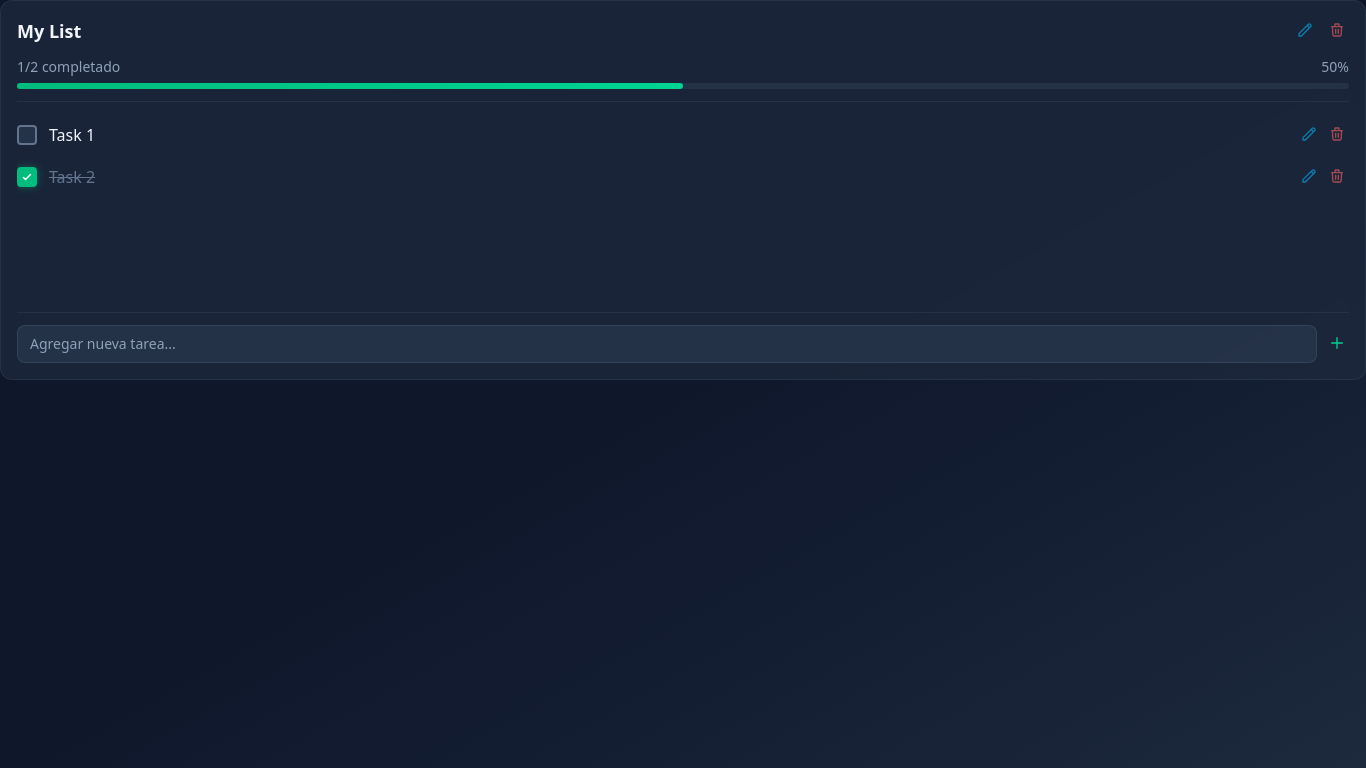
Test: CheckListCard - User Interactions › should show validation error for duplicate item
Type "Task 1" into the field with placeholder "Agregar nueva tarea..." at [667, 344], box [17,325,1317,363]
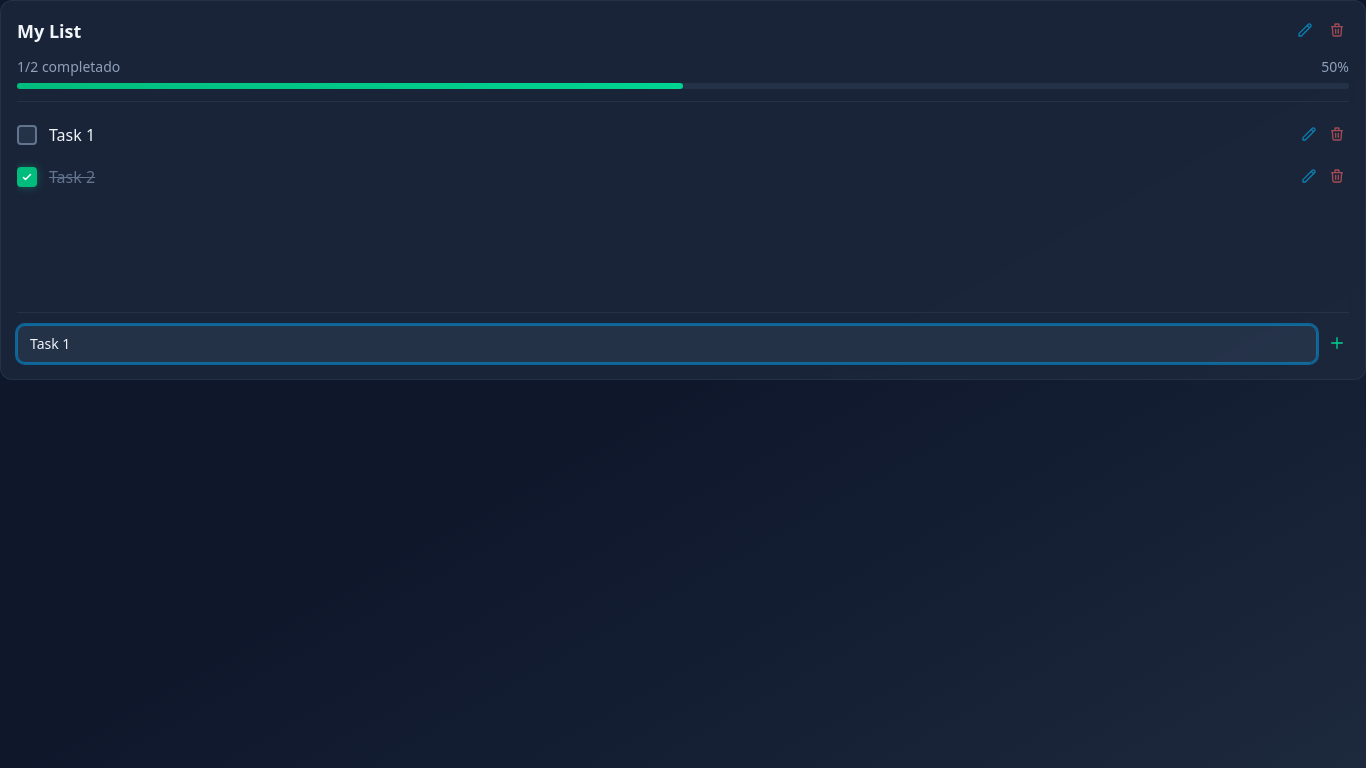
Click the 9th button at [1337, 343], box [1325,331,1349,355]
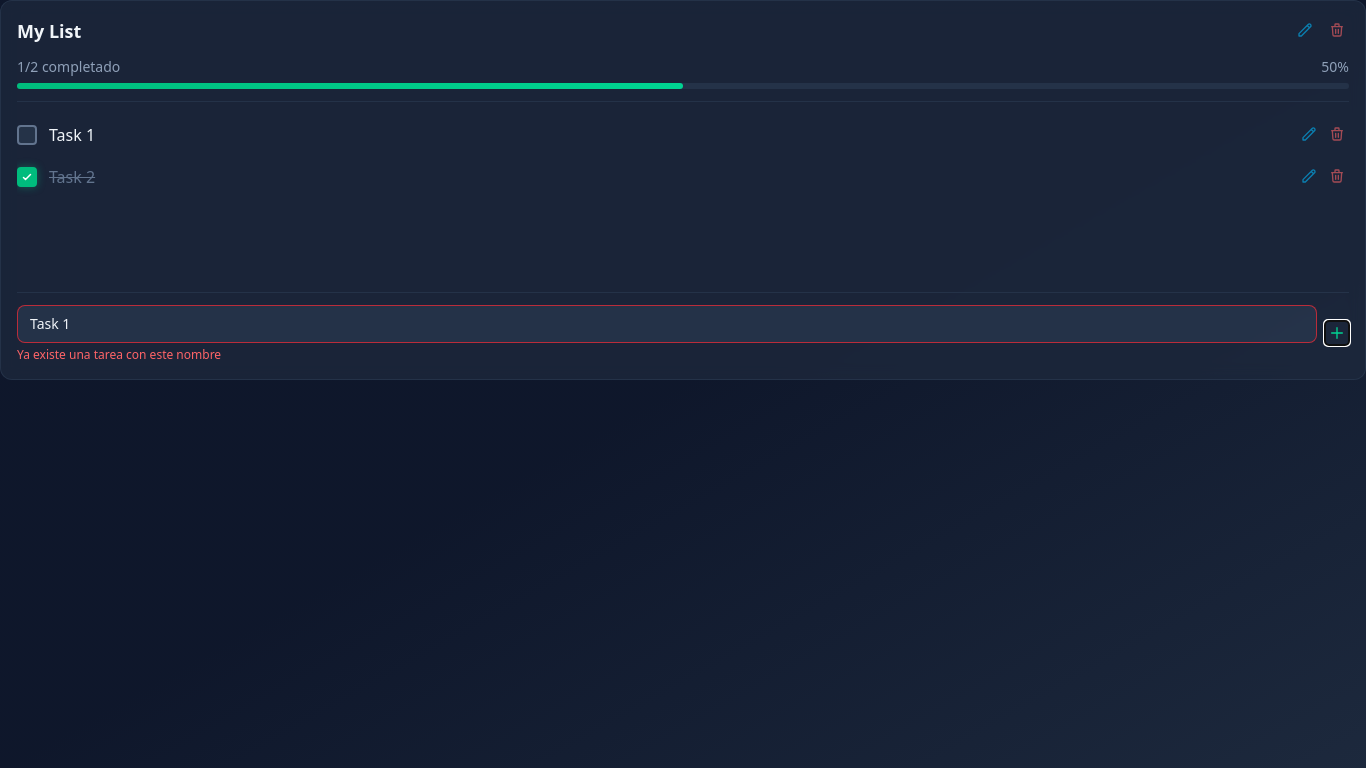
expect the text "Ya existe una tarea con este nombre" is shown: met, box [17,346,221,363]
